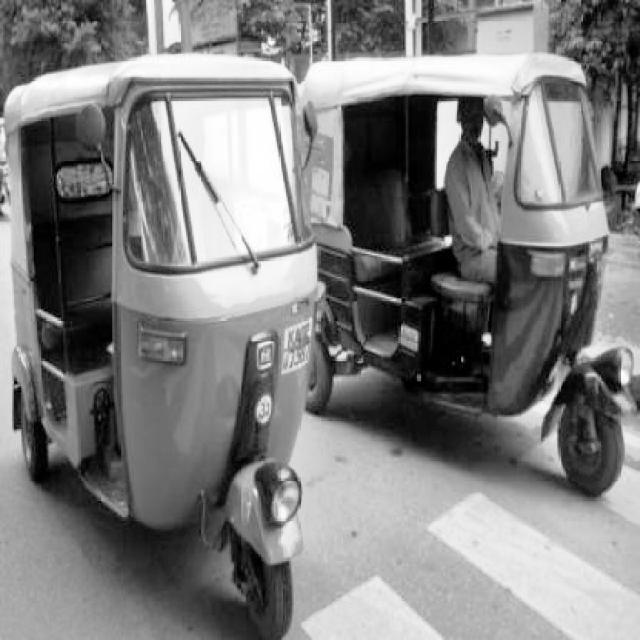Auto-Rickshaw: (4, 54, 324, 638), (280, 42, 636, 510)
